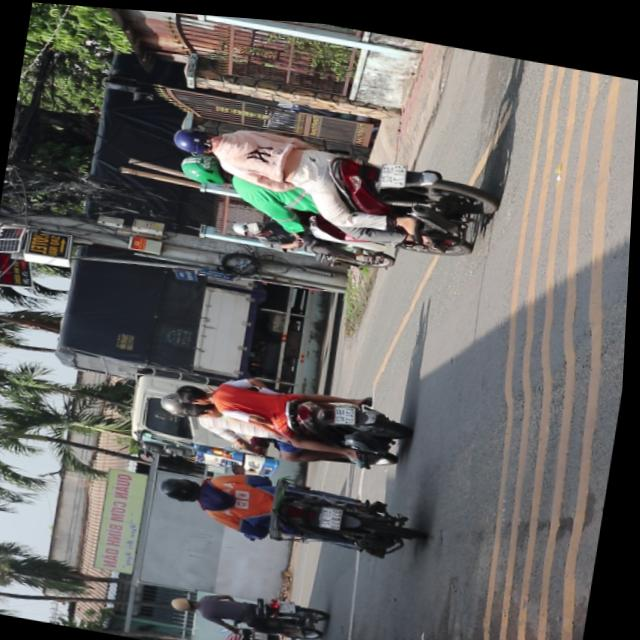helmet: (177, 145, 238, 185), (171, 118, 222, 154), (162, 468, 207, 500), (162, 386, 195, 414), (232, 213, 263, 231)
licenseplate: (161, 109, 500, 260), (157, 448, 433, 561), (158, 353, 419, 472), (228, 207, 402, 267)
motorcyclist: (177, 376, 218, 402)
nohelmet: (379, 153, 410, 182), (322, 498, 346, 522), (336, 398, 361, 419)
